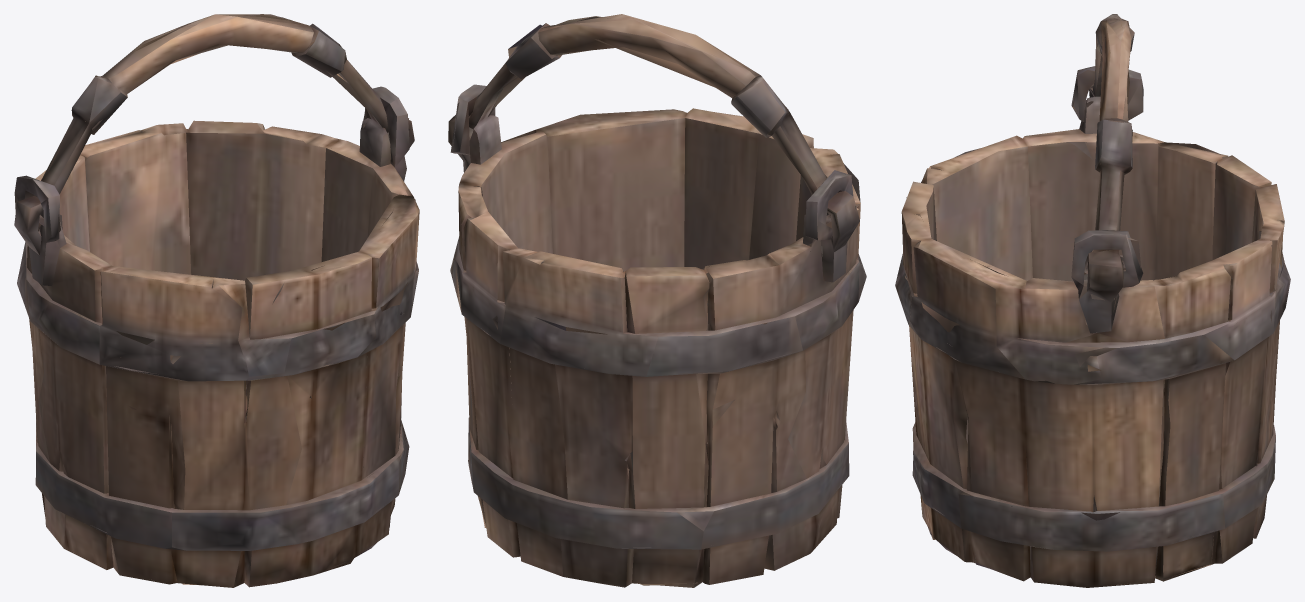
The picture shows the model from 3 angles, left to right: view 1: azimuth 30°, elevation 25°; view 2: azimuth 150°, elevation 25°; view 3: azimuth 270°, elevation 25°; orthographic projection. The views are drawn at different scales.
Visible parts, largest first — view 1: geometry_0; view 2: geometry_0; view 3: geometry_0.
Boxes of the visible parts, box(x1,y1,x2,y2) form: geometry_0: box(14, 14, 419, 587); geometry_0: box(448, 14, 866, 587); geometry_0: box(895, 14, 1290, 587).
Size of the model in its own units: 0.2483 by 0.2991 by 0.2238.
1 material, 1 textured.
